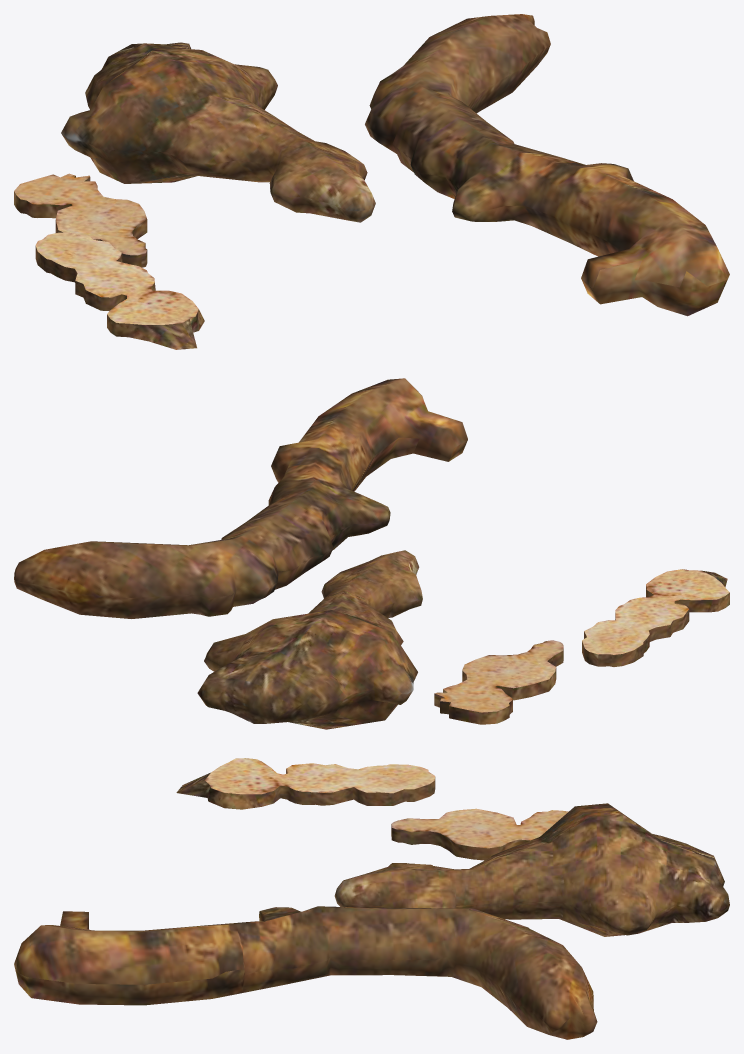
The model's file is cangzhu.FBX.
3 renders of one model, top to bottom at view 1: azimuth 30°, elevation 25°; view 2: azimuth 150°, elevation 25°; view 3: azimuth 270°, elevation 25°, orthographic. The views are drawn at different scales.
Parts seen in each view (by area): view 1: Cylinder001, Cylinder002, Line001, Line002; view 2: Cylinder001, Cylinder002, Line001, Line002; view 3: Cylinder001, Cylinder002, Line001, Line002.
Part boxes in pixels (box(x1,y1,x2,y2)): Cylinder001: box(365, 14, 729, 316); Cylinder002: box(61, 42, 375, 222); Line001: box(35, 232, 204, 349); Line002: box(14, 173, 147, 267); Cylinder001: box(14, 378, 467, 618); Cylinder002: box(197, 550, 422, 729); Line001: box(582, 569, 729, 666); Line002: box(434, 640, 563, 724); Cylinder001: box(14, 906, 597, 1039); Cylinder002: box(334, 803, 729, 936); Line001: box(176, 758, 435, 809); Line002: box(391, 808, 568, 860).
Size of the model in its own units: 46.79 by 8.69 by 51.51.
1 material, 1 textured.
